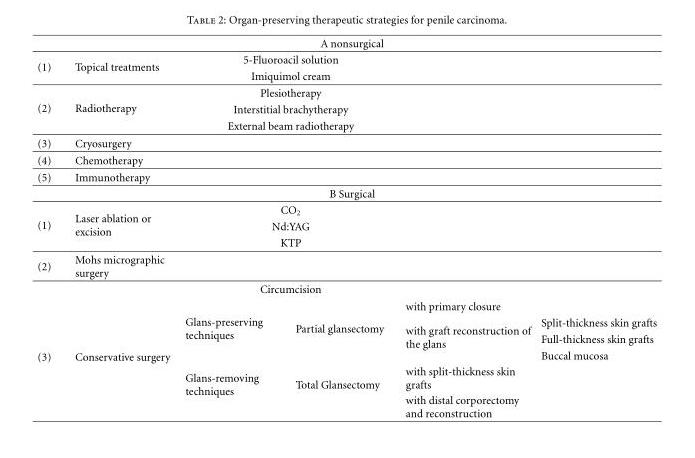table: (36, 37, 656, 419)
table column: (393, 37, 535, 419), (535, 37, 656, 419), (278, 37, 393, 419), (62, 37, 176, 419), (176, 37, 278, 419), (36, 37, 62, 419)
table column header: (36, 37, 656, 51)
table projected row header: (36, 185, 656, 201)
table row: (36, 250, 656, 280), (36, 363, 656, 392), (36, 392, 656, 419), (36, 67, 656, 84), (36, 100, 656, 117), (36, 117, 656, 134), (36, 134, 656, 151), (36, 151, 656, 168), (36, 168, 656, 185), (36, 201, 656, 218), (36, 280, 656, 297), (36, 297, 656, 314), (36, 330, 656, 347), (36, 51, 656, 67), (36, 84, 656, 100), (36, 185, 656, 201), (36, 218, 656, 234), (36, 234, 656, 250), (36, 314, 656, 330), (36, 347, 656, 363), (36, 37, 656, 51)
table spanning cell: (62, 297, 176, 419), (36, 37, 656, 51), (278, 297, 393, 363), (393, 314, 535, 363), (176, 297, 278, 363), (278, 363, 393, 419), (176, 363, 278, 419), (62, 84, 176, 134), (62, 201, 176, 250), (62, 51, 176, 84), (176, 67, 393, 84), (176, 100, 393, 117), (176, 117, 393, 134), (176, 201, 393, 218), (176, 280, 393, 297), (176, 51, 393, 67), (176, 84, 393, 100), (176, 218, 393, 234), (176, 234, 393, 250), (36, 297, 62, 419), (36, 84, 62, 134), (36, 201, 62, 250), (36, 250, 62, 297), (36, 51, 62, 84)
